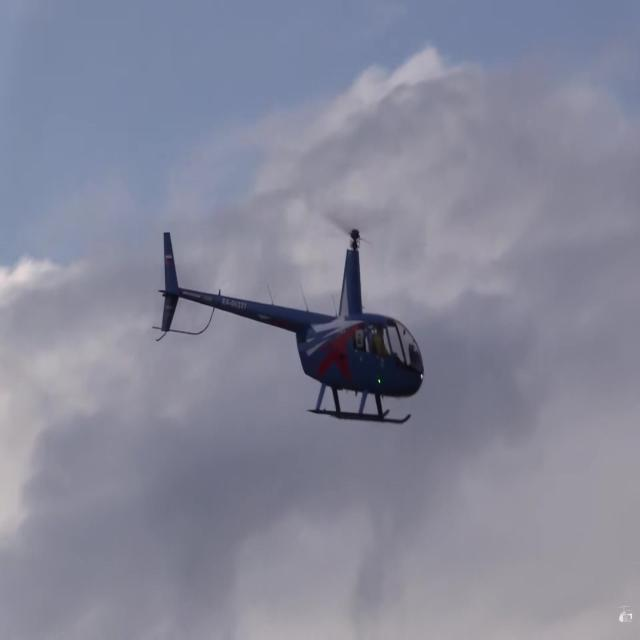CIV_HELO: (154, 226, 426, 428)
